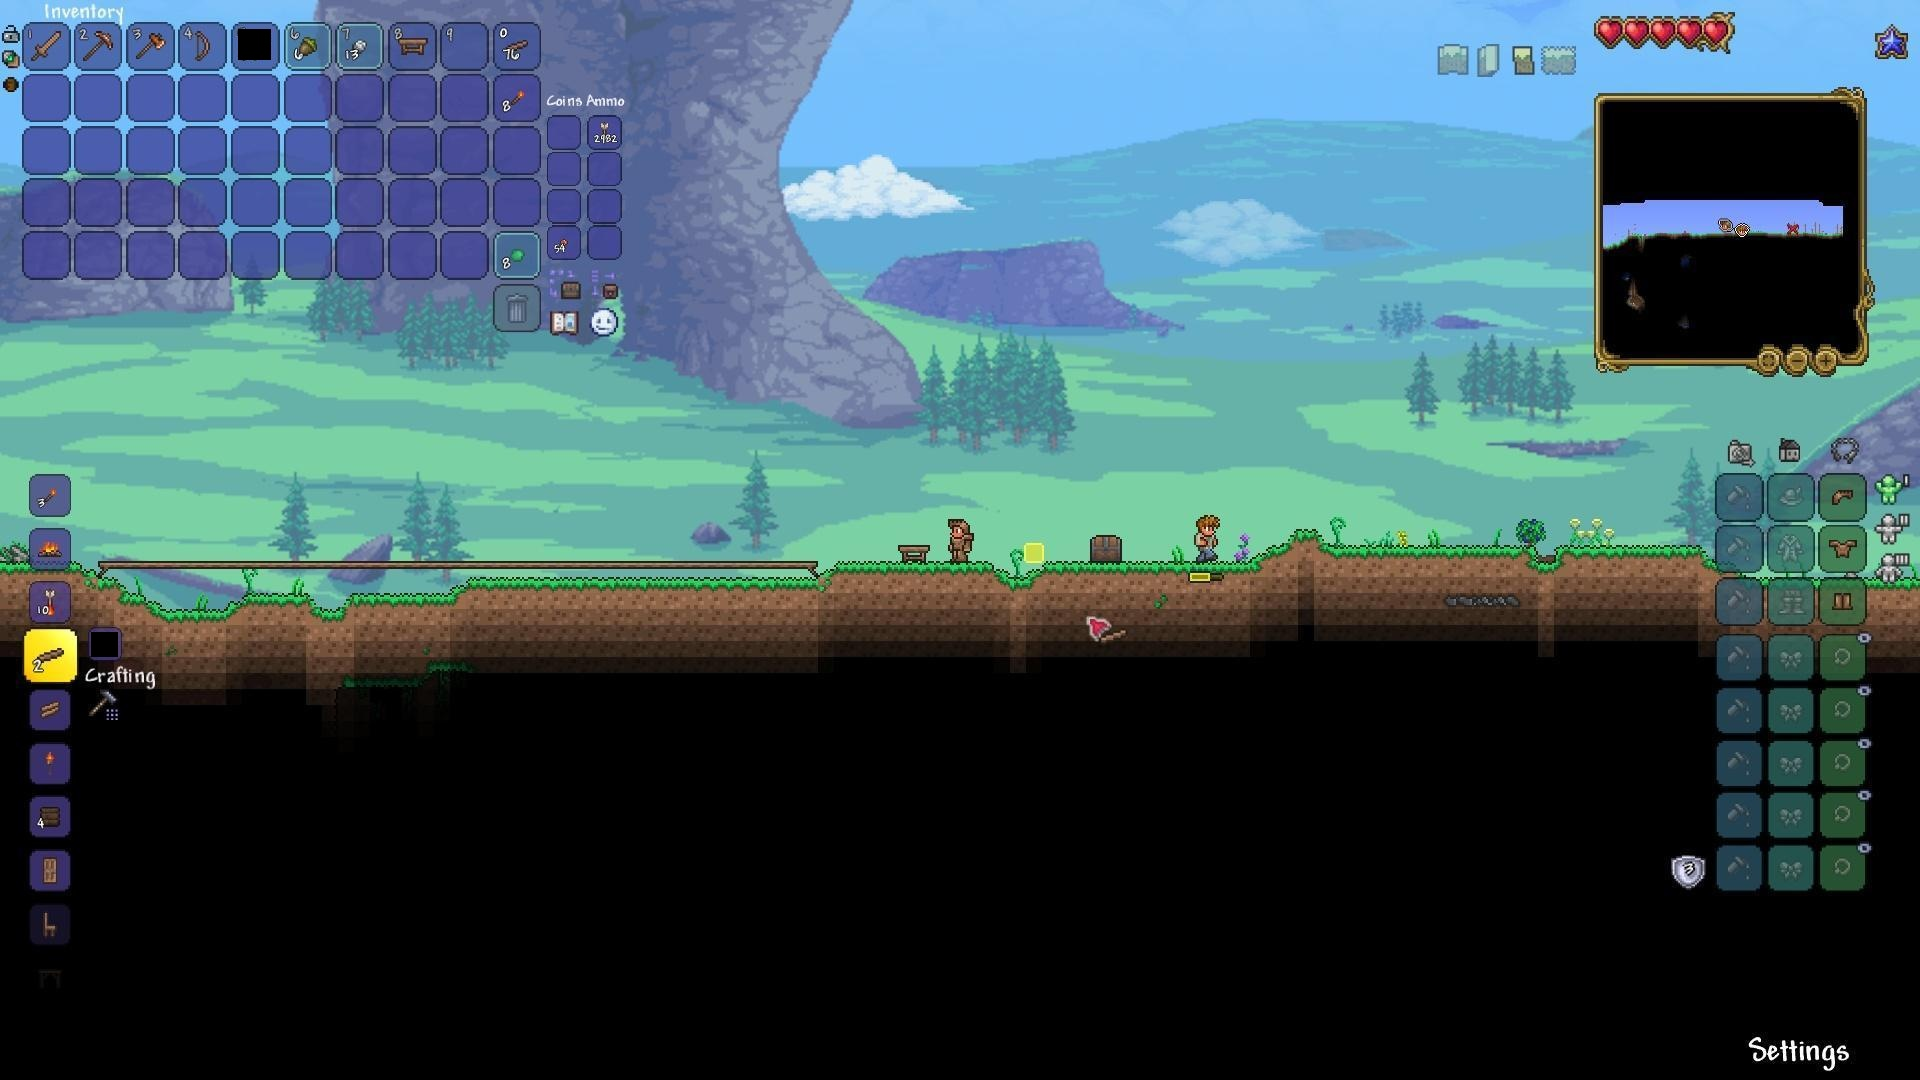breastplate: (1829, 537, 1859, 558)
helmet: (1826, 483, 1858, 510)
legs: (1832, 588, 1855, 617)
wood: (37, 695, 65, 723)
workbench: (895, 539, 932, 564), (393, 33, 430, 58)
